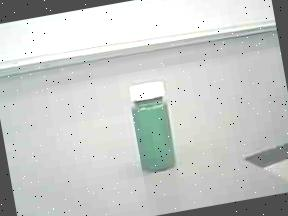Bottle C: (114, 70, 193, 186)
